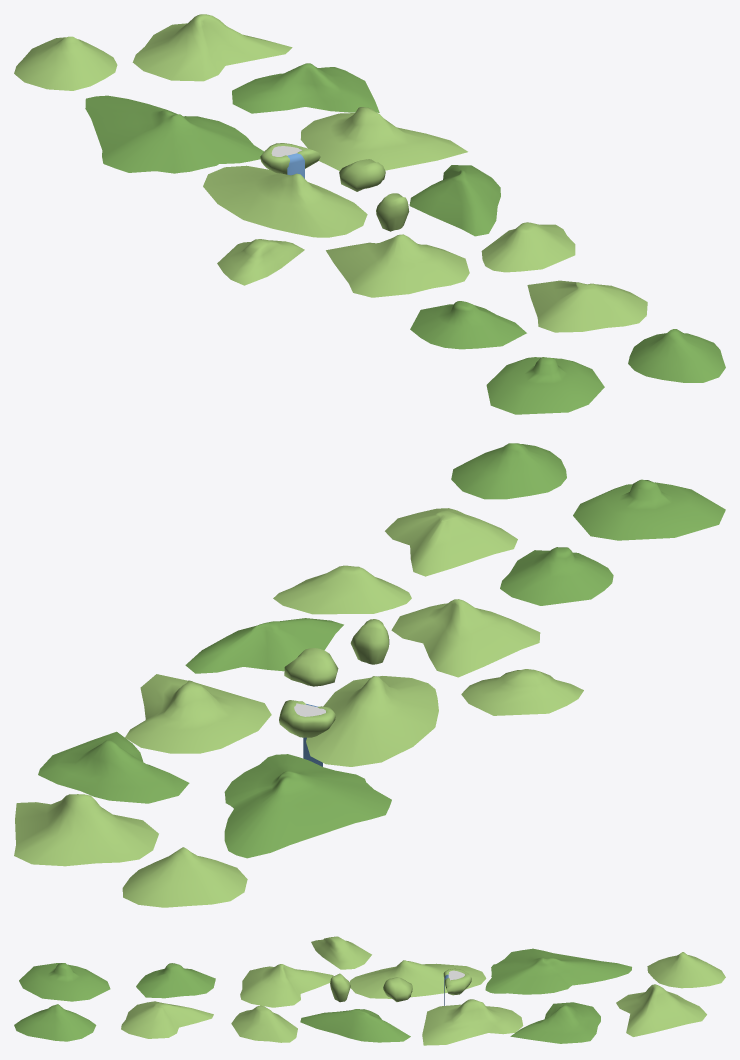
The model's file is Hills.fbx.
3 renders of one model, top to bottom at view 1: azimuth 30°, elevation 25°; view 2: azimuth 150°, elevation 25°; view 3: azimuth 270°, elevation 25°, orthographic. The views are drawn at different scales.
Visible parts, largest first — view 1: Hills.006, Hills.003, Hills.002, Hills.014, Hills.009, Hills.005, Hills.004, Hills.015, Hills.007, Hills.001, Hills.012, Hills.011 (+5 smaller); view 2: Hills.006, Hills.003, Hills.009, Hills.002, Hills.014, Hills.005, Hills.004, Hills.015, Hills.001, Hills.007, Hills.012, Hills.011 (+5 smaller); view 3: Hills.006, Hills.002, Hills.009, Hills.014, Hills.003, Hills.005, Hills.004, Hills.007, Hills.015, Hills.012, Hills.001, Hills.011 (+5 smaller).
Boxes of the visible parts, x1,y1,x2,y2 form: Hills.006: [85, 95, 263, 173]; Hills.003: [203, 165, 367, 237]; Hills.002: [300, 107, 467, 170]; Hills.014: [326, 234, 469, 297]; Hills.009: [132, 14, 292, 81]; Hills.005: [486, 357, 604, 414]; Hills.004: [232, 63, 379, 113]; Hills.015: [527, 280, 647, 332]; Hills.007: [409, 165, 500, 236]; Hills.001: [14, 36, 117, 90]; Hills.012: [628, 329, 725, 382]; Hills.011: [410, 301, 526, 349]; Hills.006: [224, 754, 391, 858]; Hills.003: [306, 676, 438, 766]; Hills.009: [14, 794, 158, 866]; Hills.002: [125, 674, 271, 753]; Hills.014: [391, 599, 540, 677]; Hills.005: [573, 479, 725, 540]; Hills.004: [38, 731, 189, 803]; Hills.015: [385, 508, 517, 576]; Hills.001: [122, 847, 247, 907]; Hills.007: [185, 618, 343, 673]; Hills.012: [451, 443, 566, 499]; Hills.011: [500, 547, 613, 605]; Hills.006: [485, 948, 631, 994]; Hills.002: [422, 999, 523, 1045]; Hills.009: [616, 984, 706, 1036]; Hills.014: [240, 964, 333, 1007]; Hills.003: [349, 960, 486, 998]; Hills.005: [19, 963, 110, 1001]; Hills.004: [510, 1002, 600, 1043]; Hills.007: [300, 1009, 410, 1042]; Hills.015: [121, 1001, 213, 1038]; Hills.012: [14, 1004, 96, 1041]; Hills.001: [647, 952, 725, 988]; Hills.011: [136, 963, 215, 998].
Bounding box in the file's own units: 6558 × 1602 × 18830.
